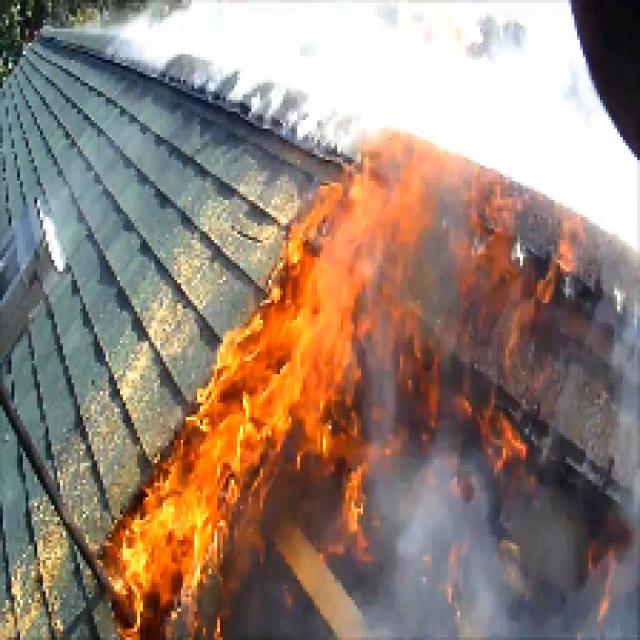fire: (263, 163, 375, 388), (161, 392, 257, 532)
